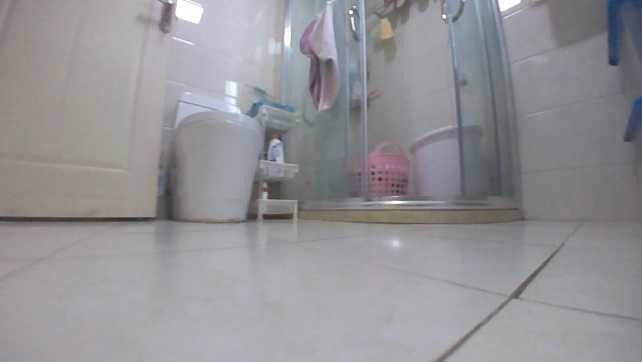door_anno: (0, 1, 177, 219)
toilet: (166, 89, 269, 223)
